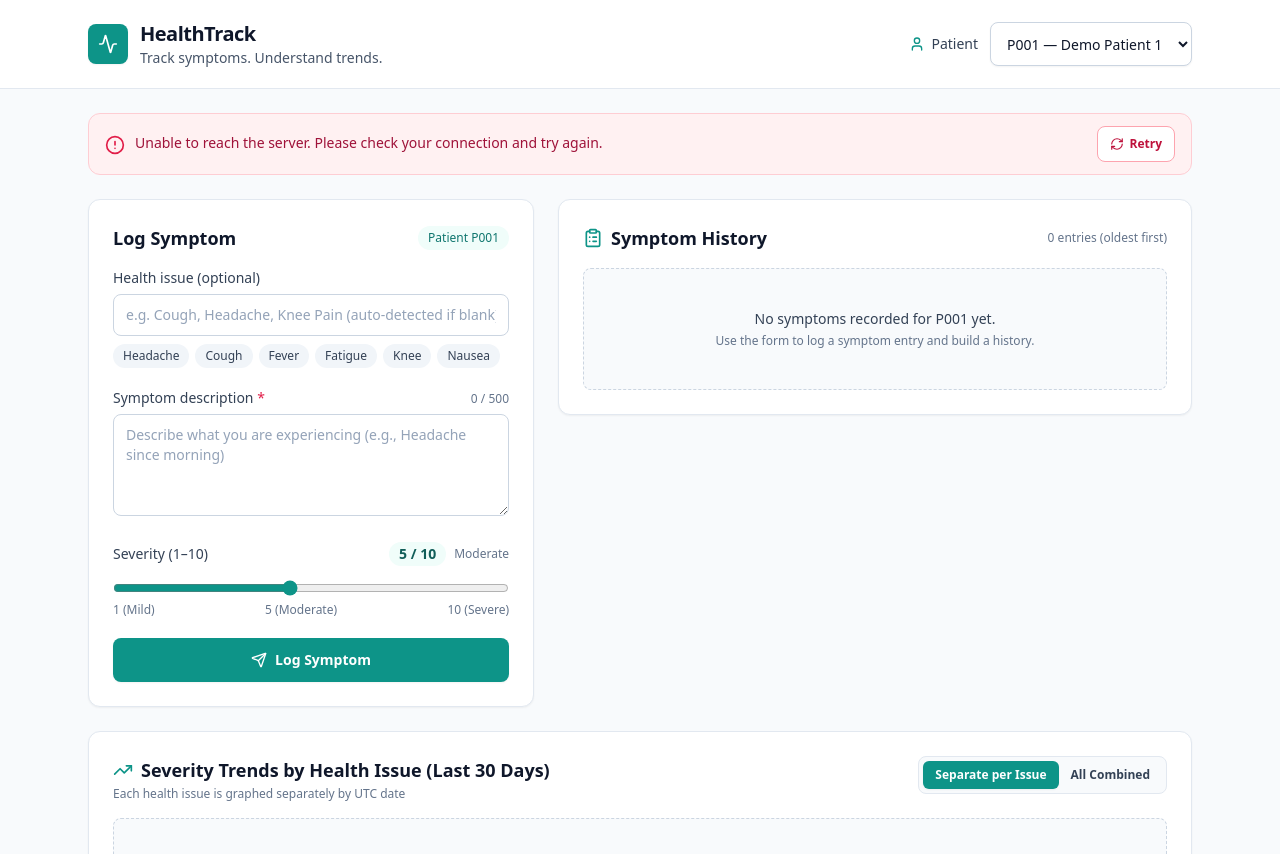
Test case: HealthTrack App › shows a network error banner with Retry on failed GET and recovers on retry
The width and height of the screenshot is (1280, 854).
expect the message shows "Unable to reach the server": met, box x1=135 y1=133 x2=603 y2=152
What coordinates should you click on to do the following:
click the button "Retry"
I would click on:
 (1136, 144)
Its box is x1=1096 y1=126 x2=1175 y2=162.
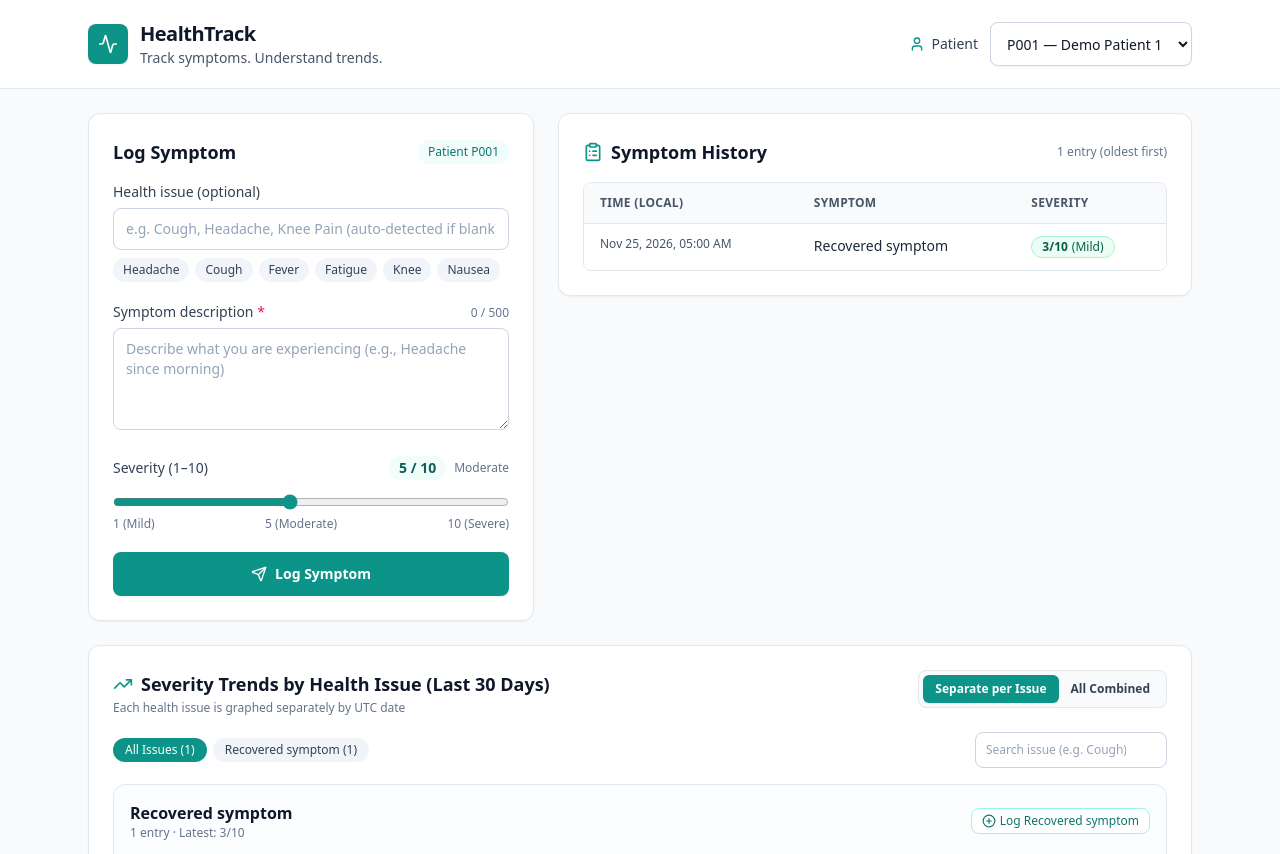
expect the text "Recovered symptom" is shown: met, box x1=798 y1=224 x2=1015 y2=270
expect the message "Unable to reach the server. Please check your connection and try again. Retry" is gone: met
